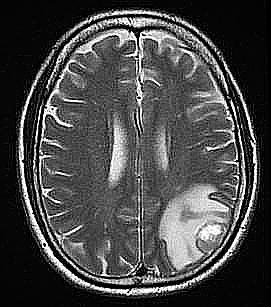Tumor: (158, 183, 232, 272), (196, 222, 227, 255)
